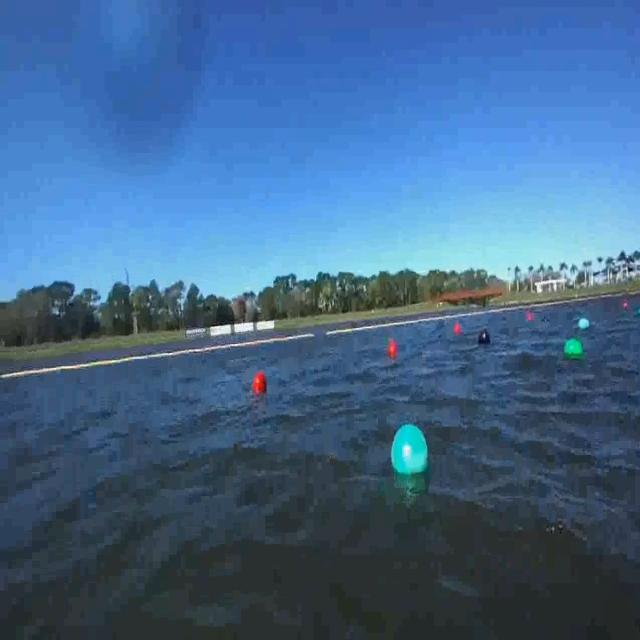black-buoy: (479, 329, 492, 347)
green-buoy: (391, 424, 431, 478), (565, 340, 584, 362), (578, 319, 588, 333)
red-buoy: (256, 371, 269, 395), (388, 341, 397, 360), (454, 322, 462, 335), (452, 325, 460, 338)
